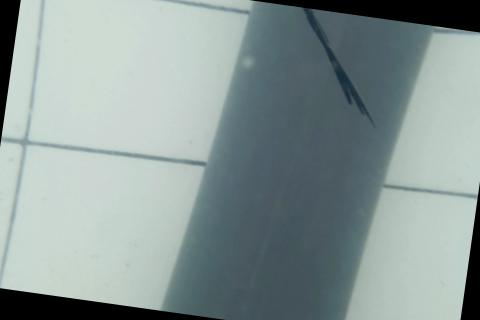keretakan: (277, 6, 389, 129)
